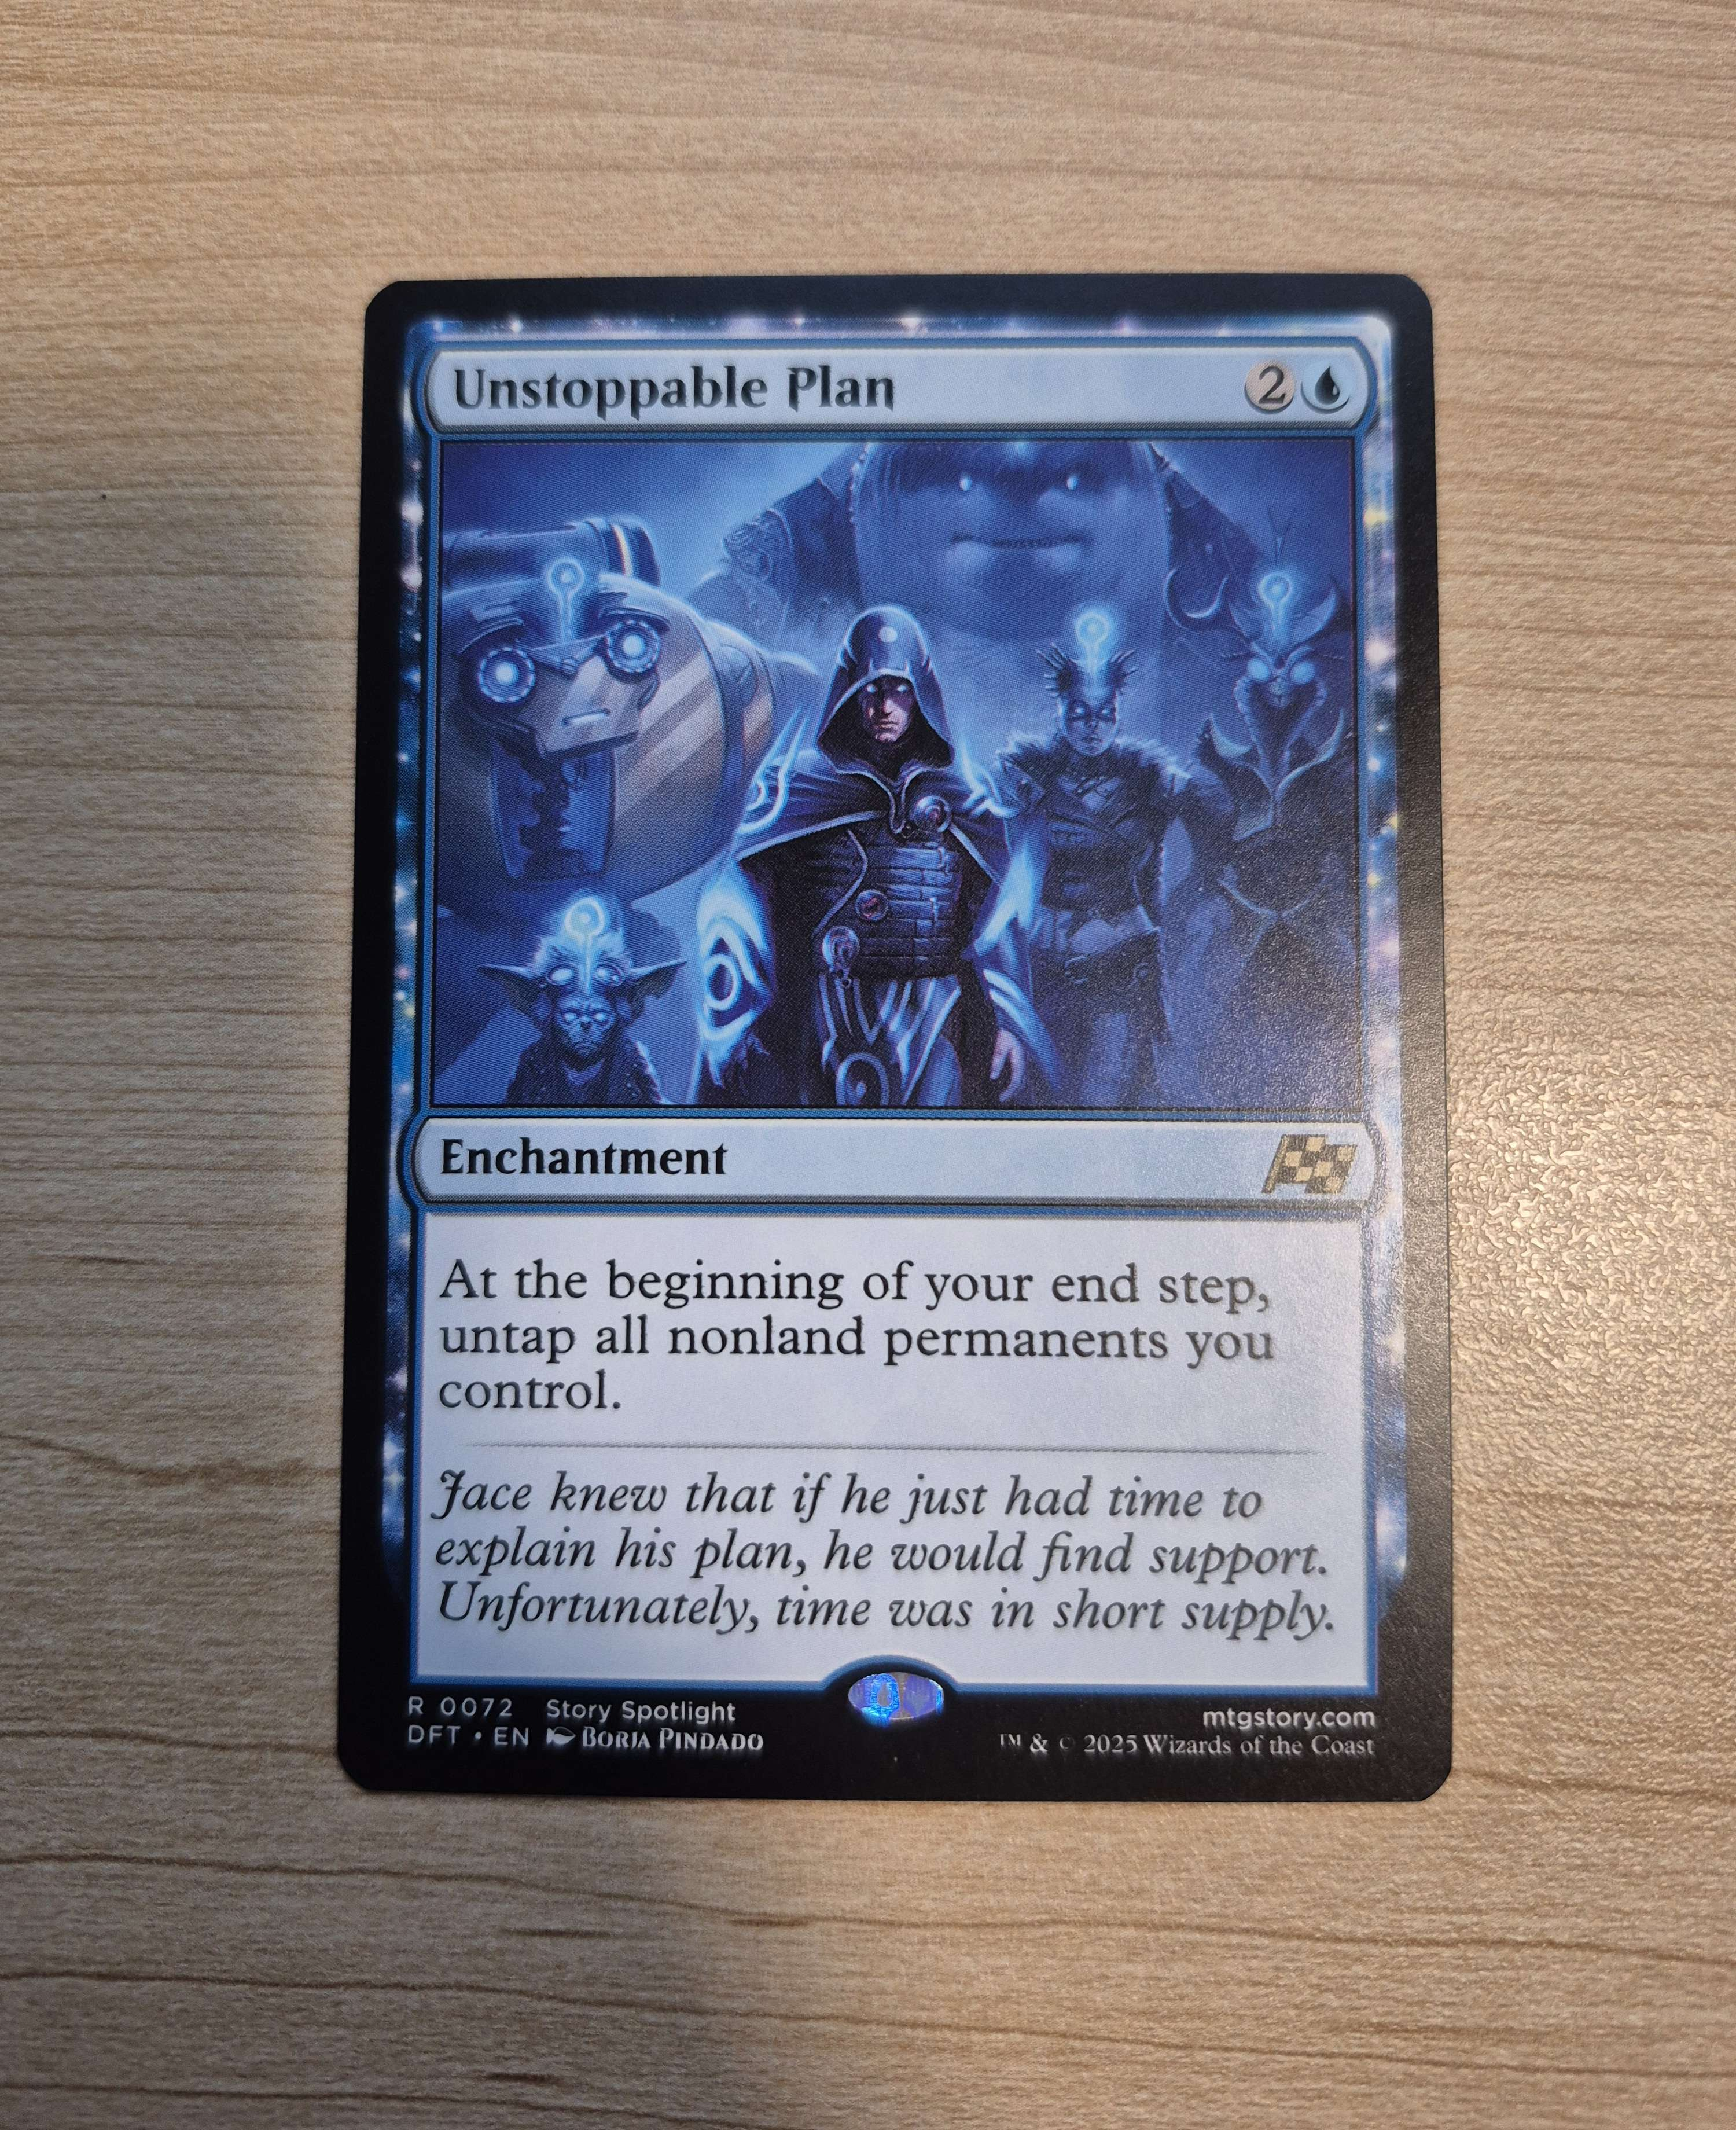mtg_card: (313, 251, 1483, 1849)
